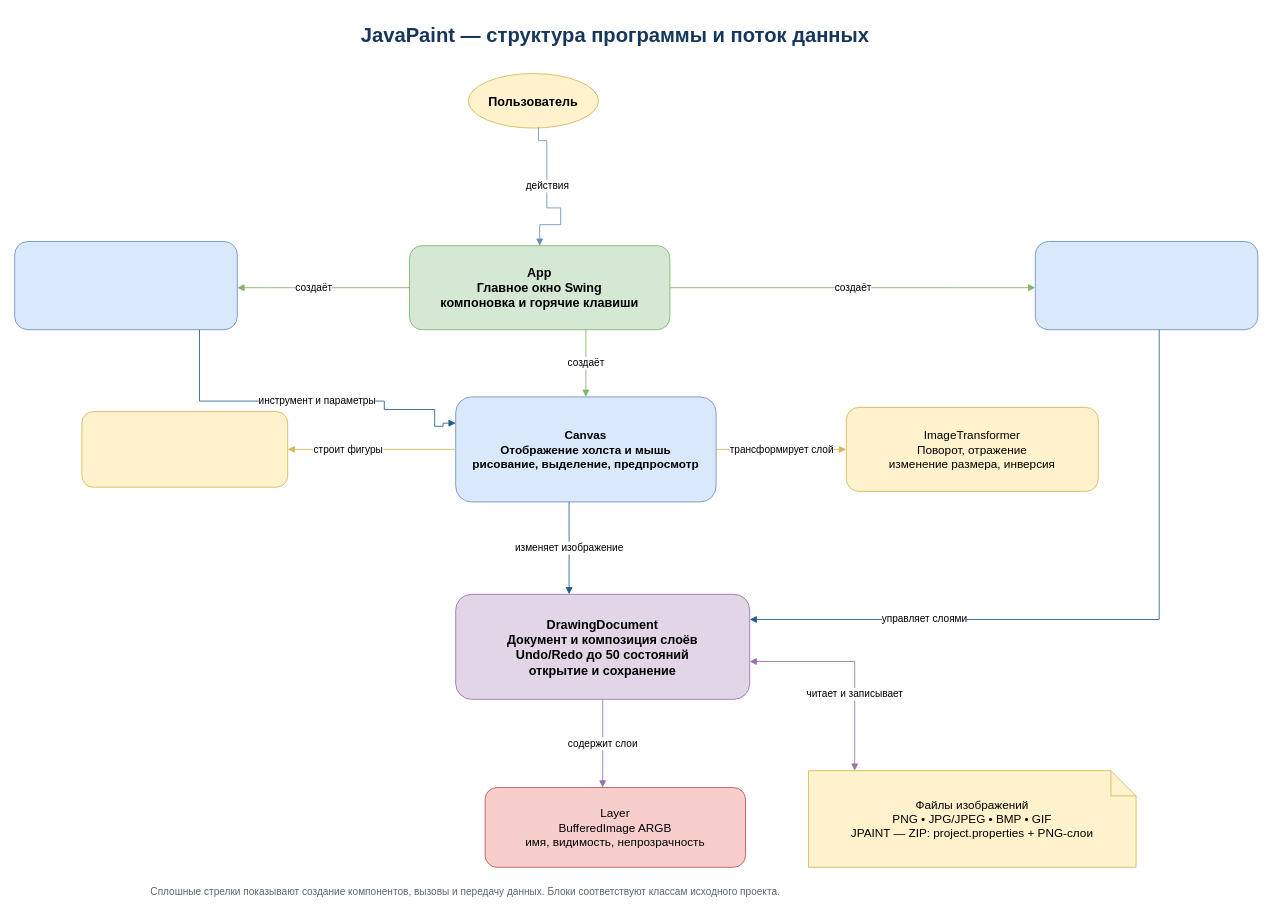
Some shapes in this 1273 by 919 pixel diagram are drawn without their labels. The centre of each missing label's shape, as x and y in pixels:
"LayersPanel Список слоёв выбор и управление" goes at [1146,285].
"ShapeDrawer Рисование линий и фигур" goes at [184,449].
"Toolbar Инструменты, цвет, толщина непрозрачность и команды" goes at [125,285].
